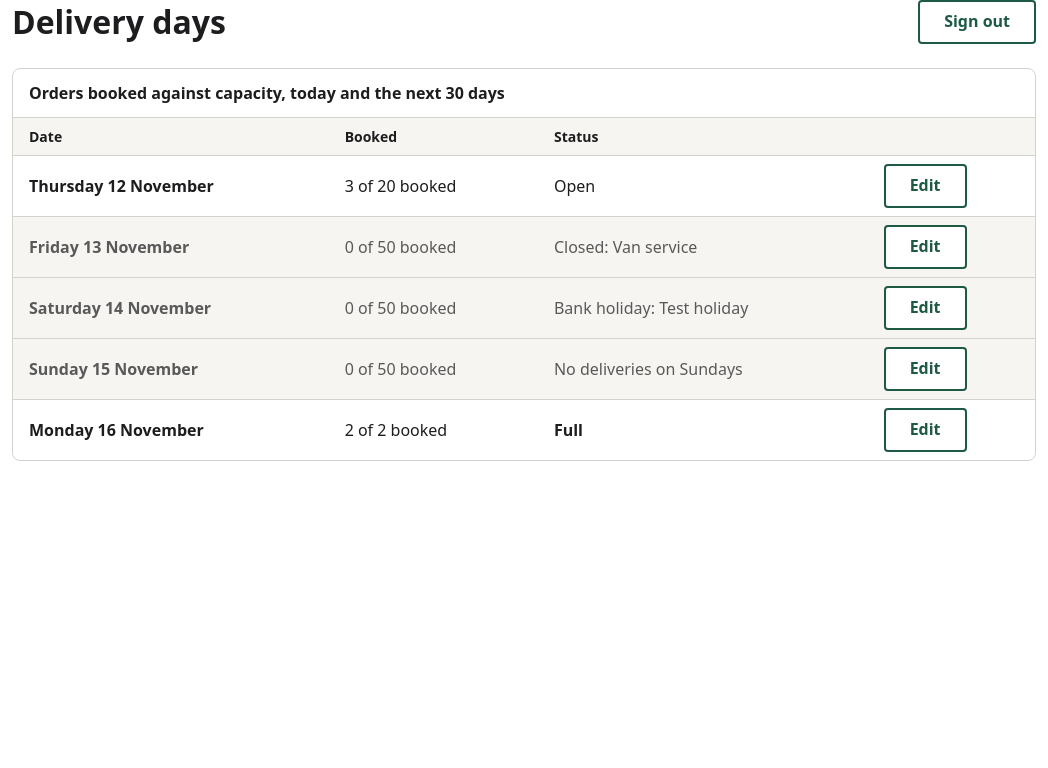
Test: AdminPageComponent › editing a day › cancels, returning focus to the Edit button
Click the button "Edit" in the row of "Thursday 12 November".
click(925, 186)  # box [884,164,966,208]
(page scrolled)
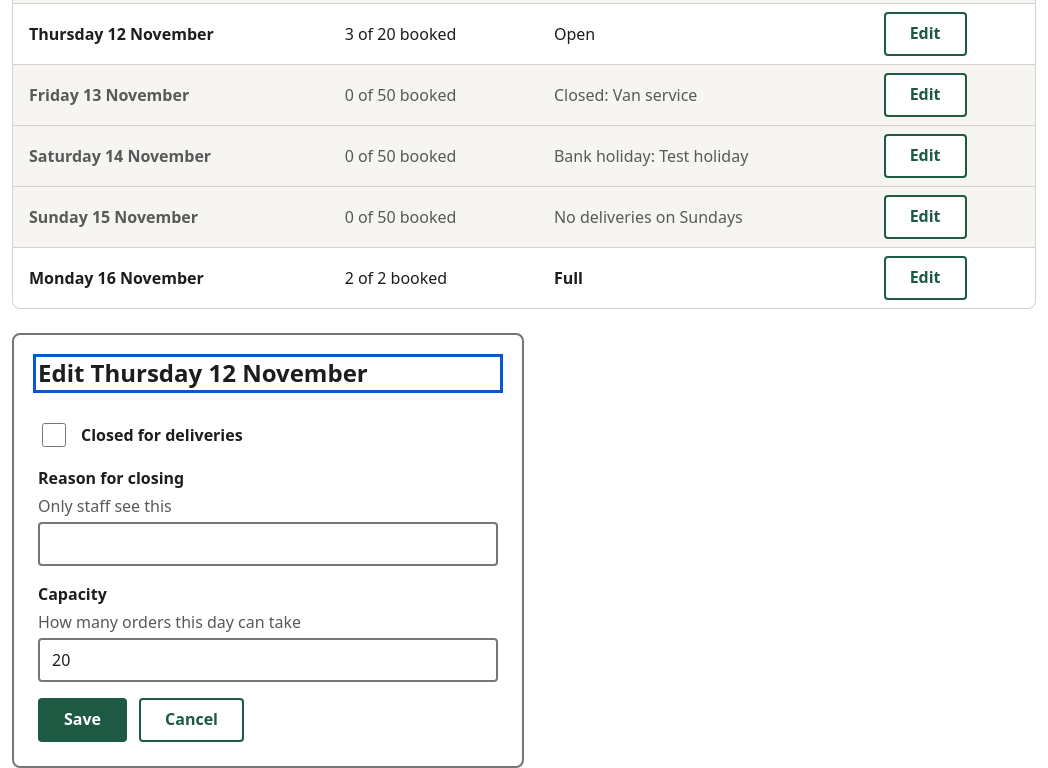
Click the button "Cancel".
click(191, 720)  # box [139,698,244,742]
(page scrolled)
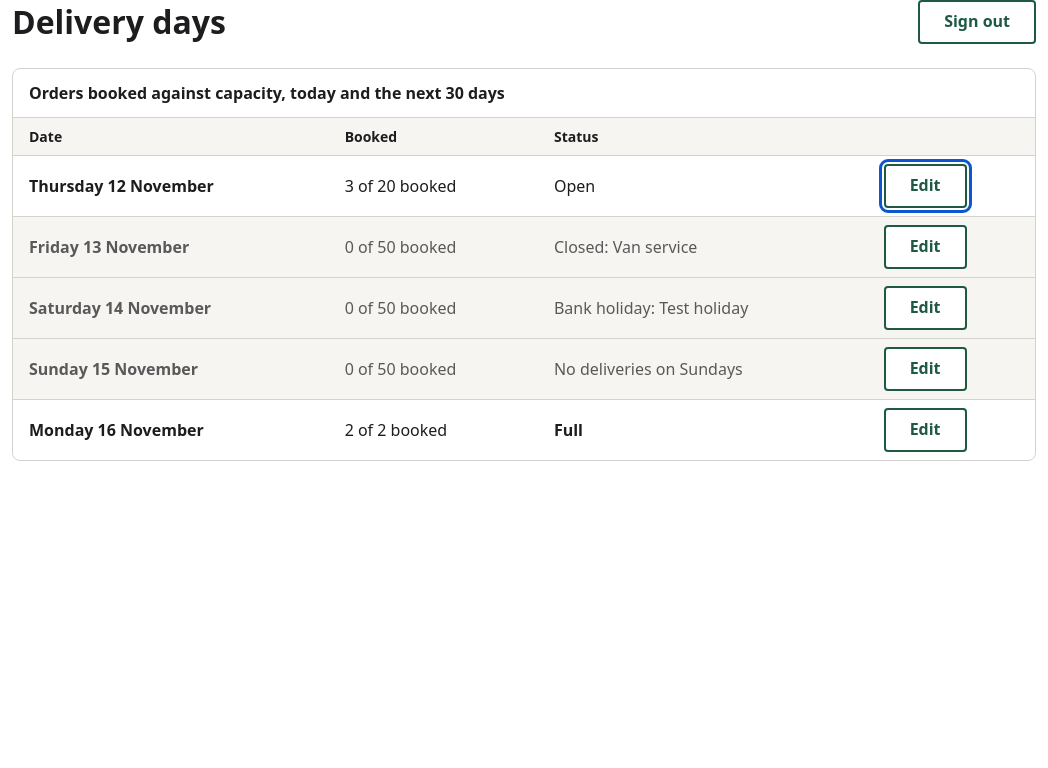
Check: the heading with id "edit-day-heading" is gone
